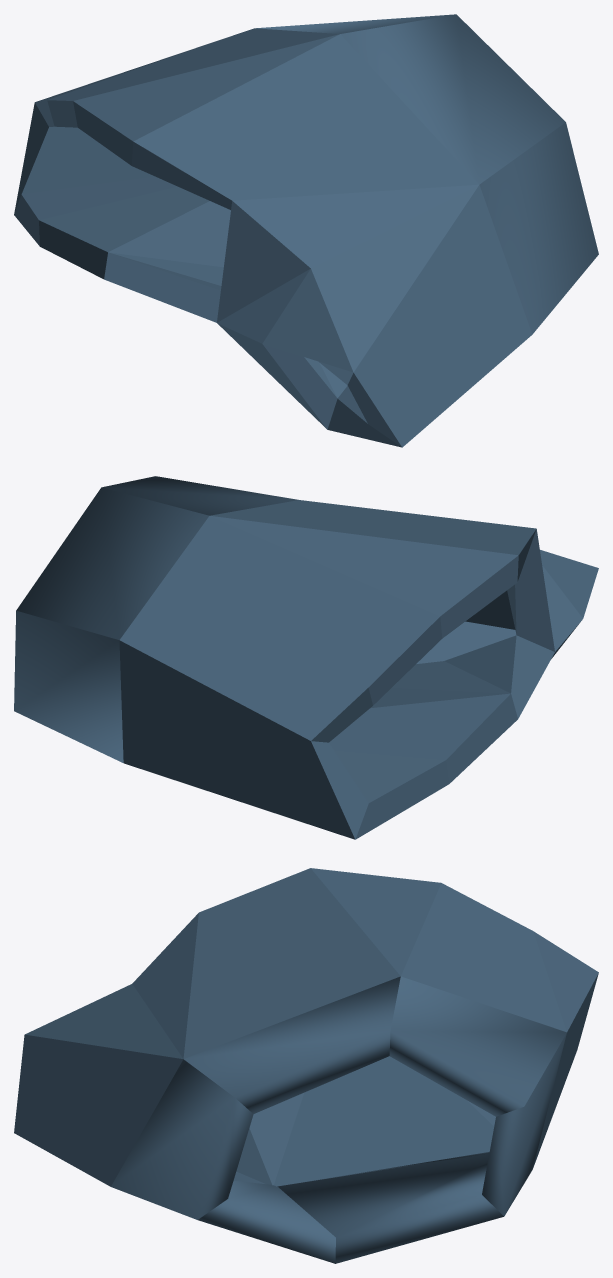
Rendered from Chr_HandRight_Female_08_Drop.fbx.
3 renders of one model, top to bottom at view 1: azimuth 30°, elevation 25°; view 2: azimuth 150°, elevation 25°; view 3: azimuth 270°, elevation 25°, orthographic. The views are drawn at different scales.
Parts seen in each view (by area): view 1: Chr_HandRight_Female_08_Static; view 2: Chr_HandRight_Female_08_Static; view 3: Chr_HandRight_Female_08_Static.
Part boxes in pixels (bbox=[...]): Chr_HandRight_Female_08_Static: bbox=[14, 14, 598, 447]; Chr_HandRight_Female_08_Static: bbox=[14, 476, 598, 839]; Chr_HandRight_Female_08_Static: bbox=[14, 868, 598, 1263].
Bounding box in the file's own units: 12.14 × 7.05 × 15.24.
